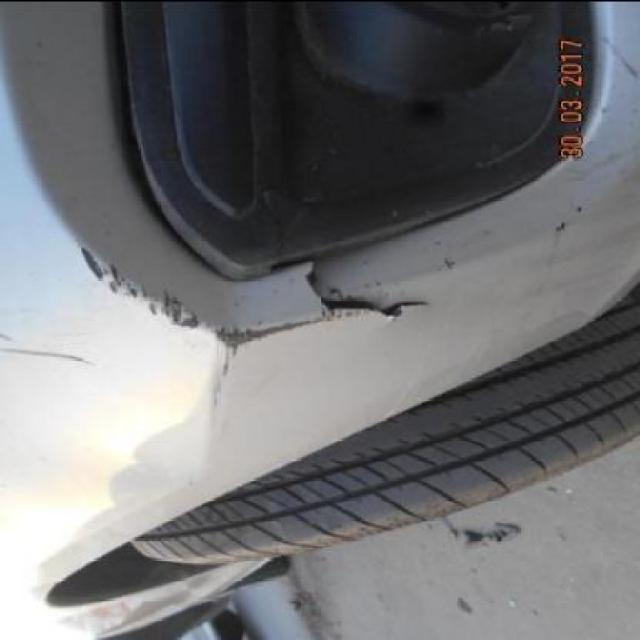damage: (74, 238, 207, 330), (303, 257, 430, 318), (212, 306, 369, 353)
